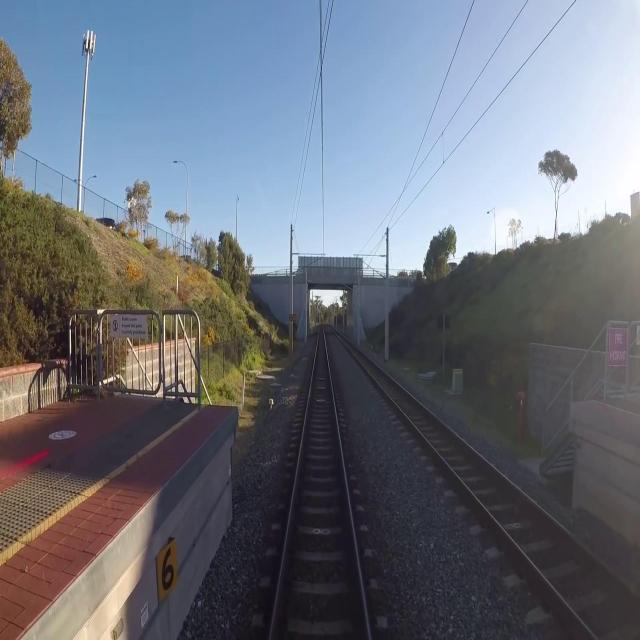rail-track: (344, 340, 640, 639), (272, 327, 367, 639)
